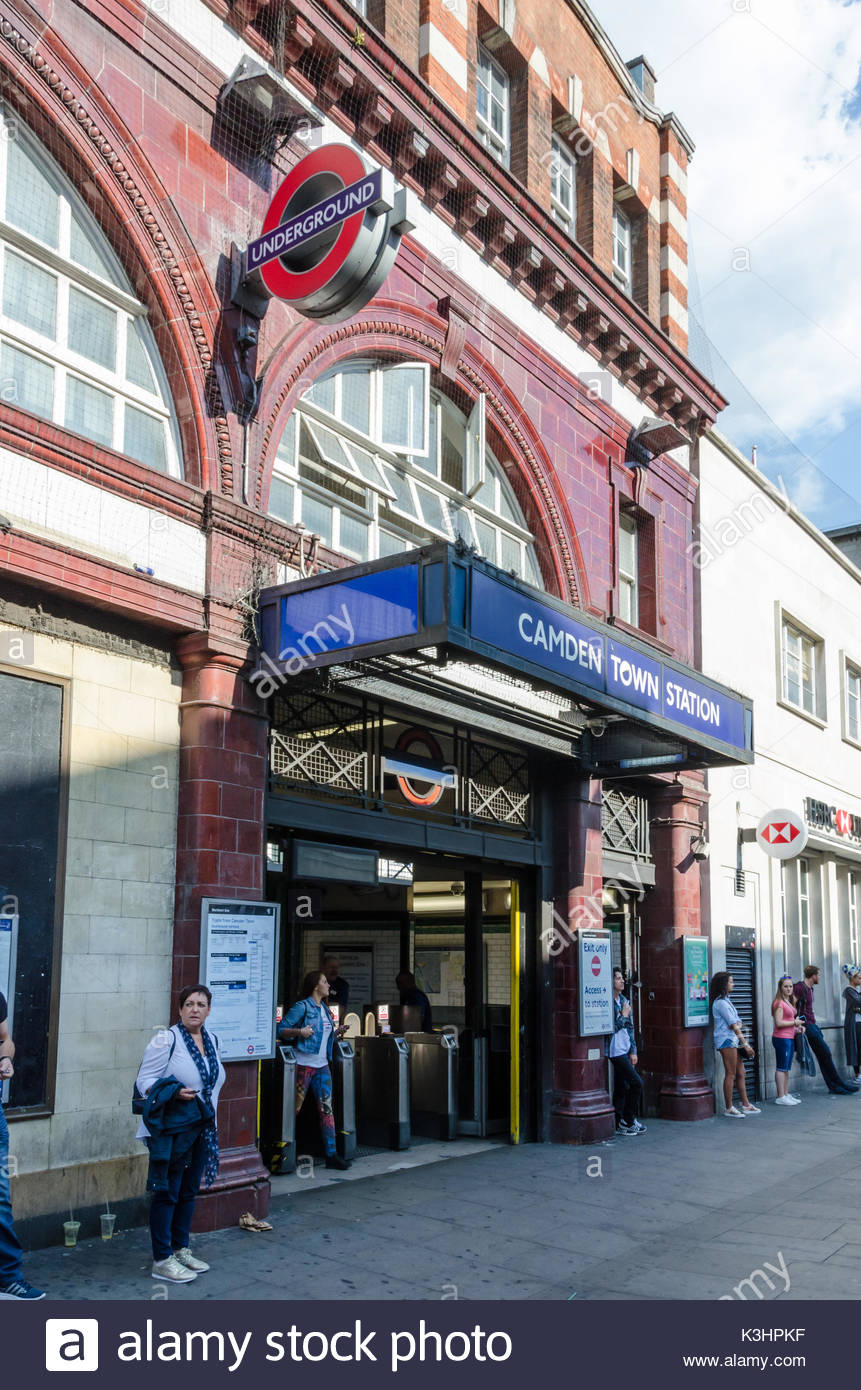London Underground: (237, 144, 379, 303)
